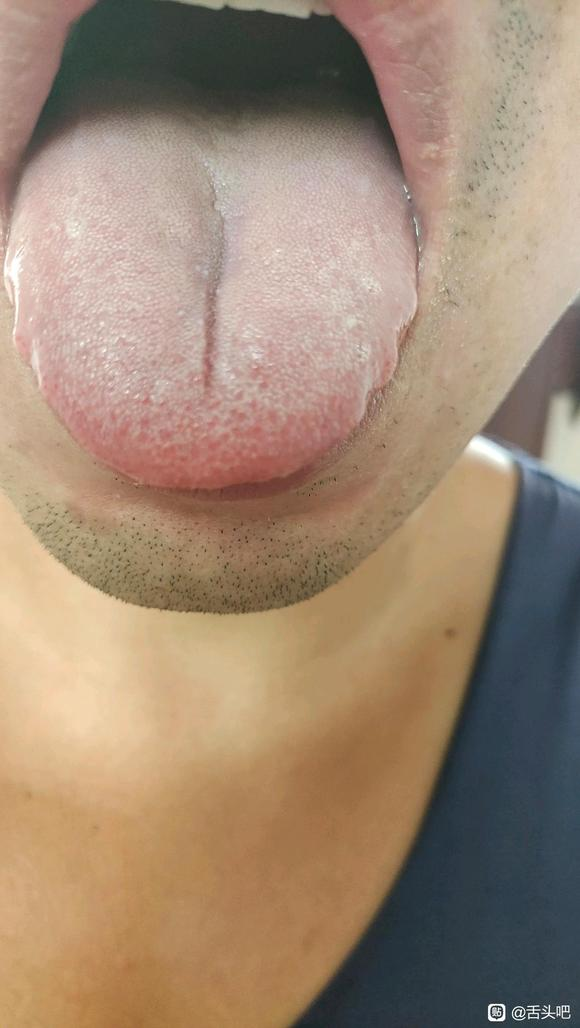baitaishe: (4, 32, 417, 488)
liewenshe: (194, 178, 227, 398)
